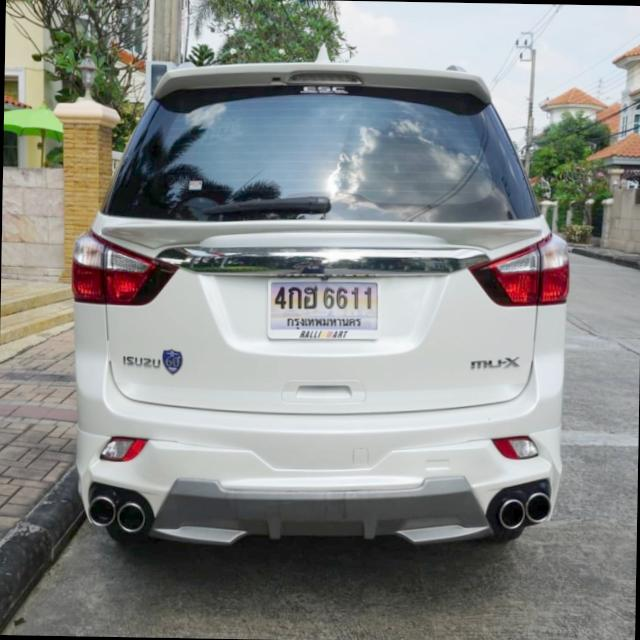license_plate: (266, 275, 382, 341)
